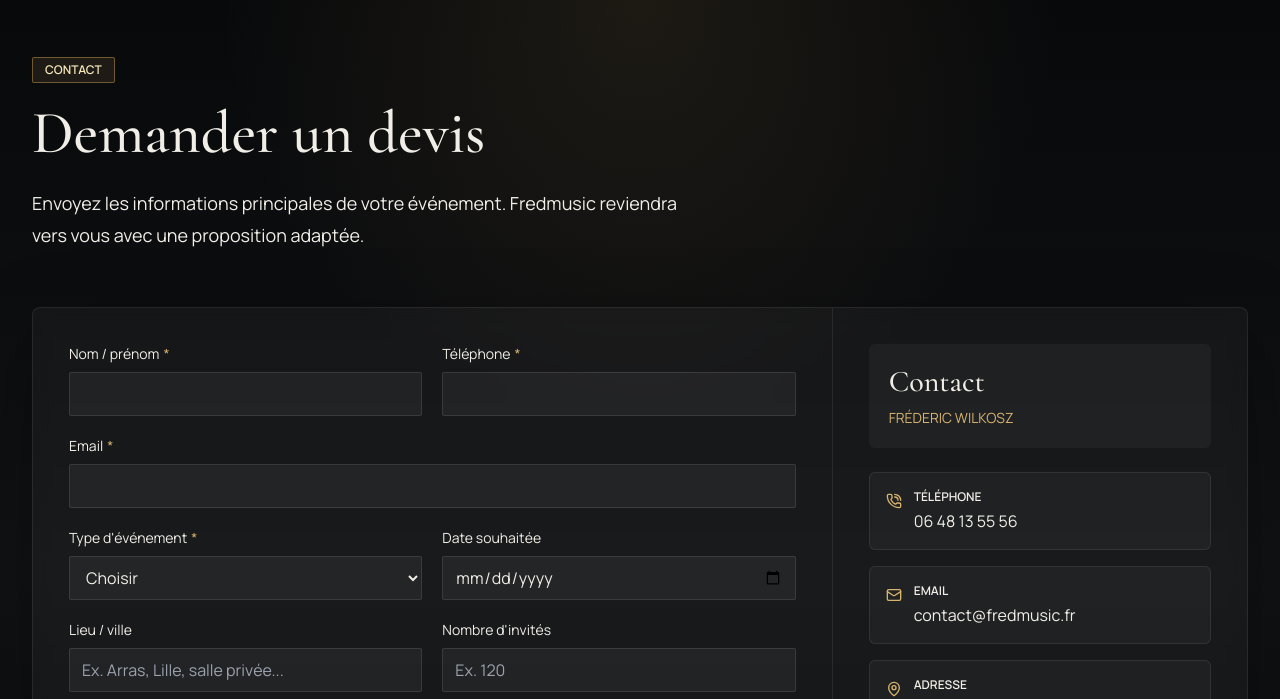
Test: ContactPage › submits a valid quote request
Type "Alice Martin" into the field labelled "Nom / prénom*" at (246, 394), box [69,372,422,416]
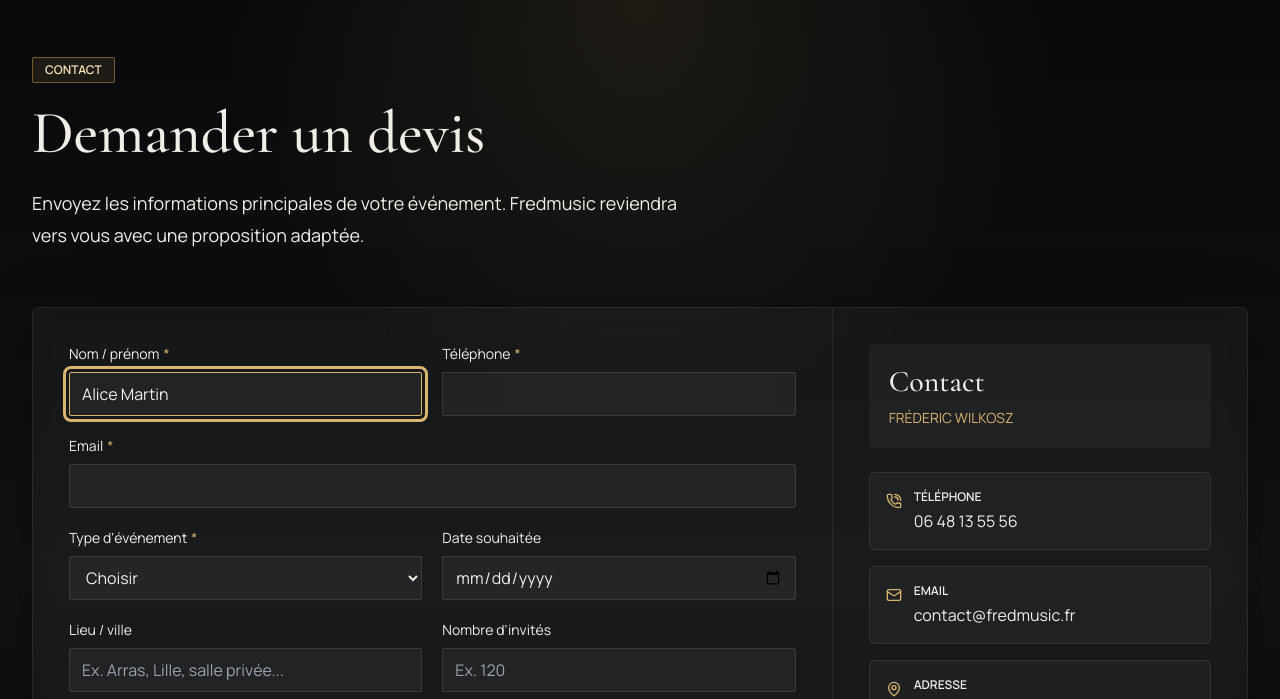
Type "0612345678" into the field labelled "Téléphone*" at (619, 394), box [442,372,796,416]
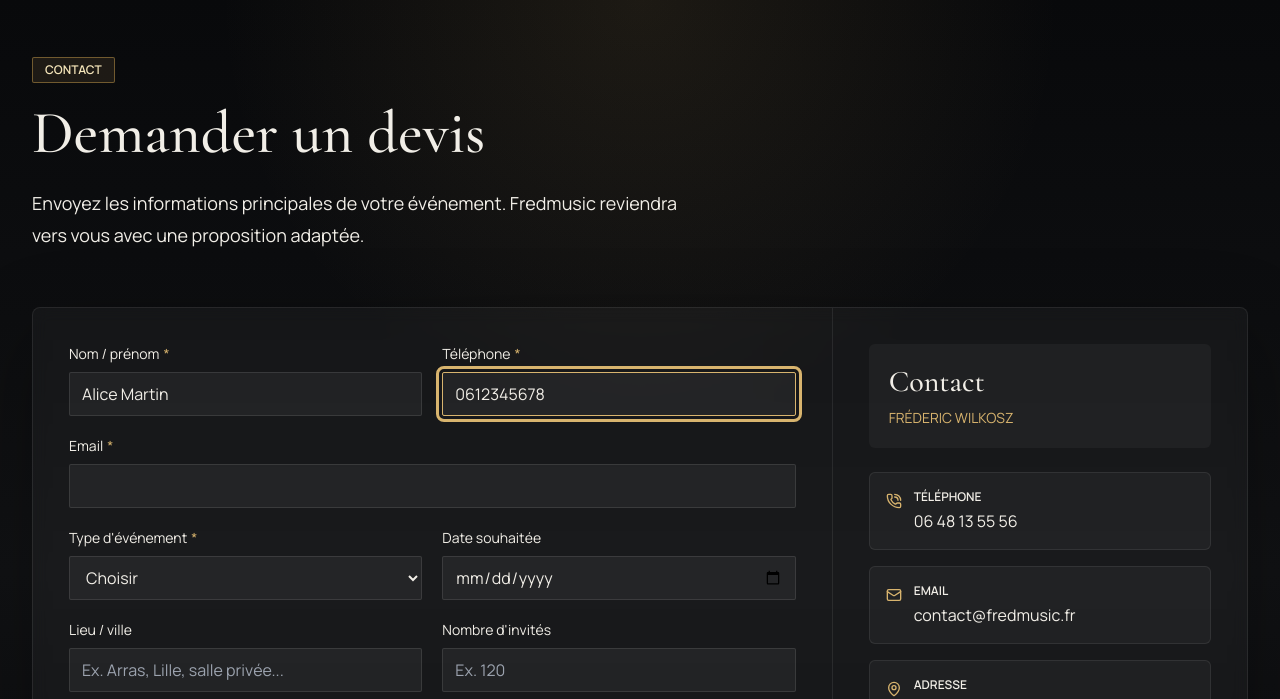
Type "alice@example.com" into the field labelled "Email*" at (432, 486), box [69,464,796,508]
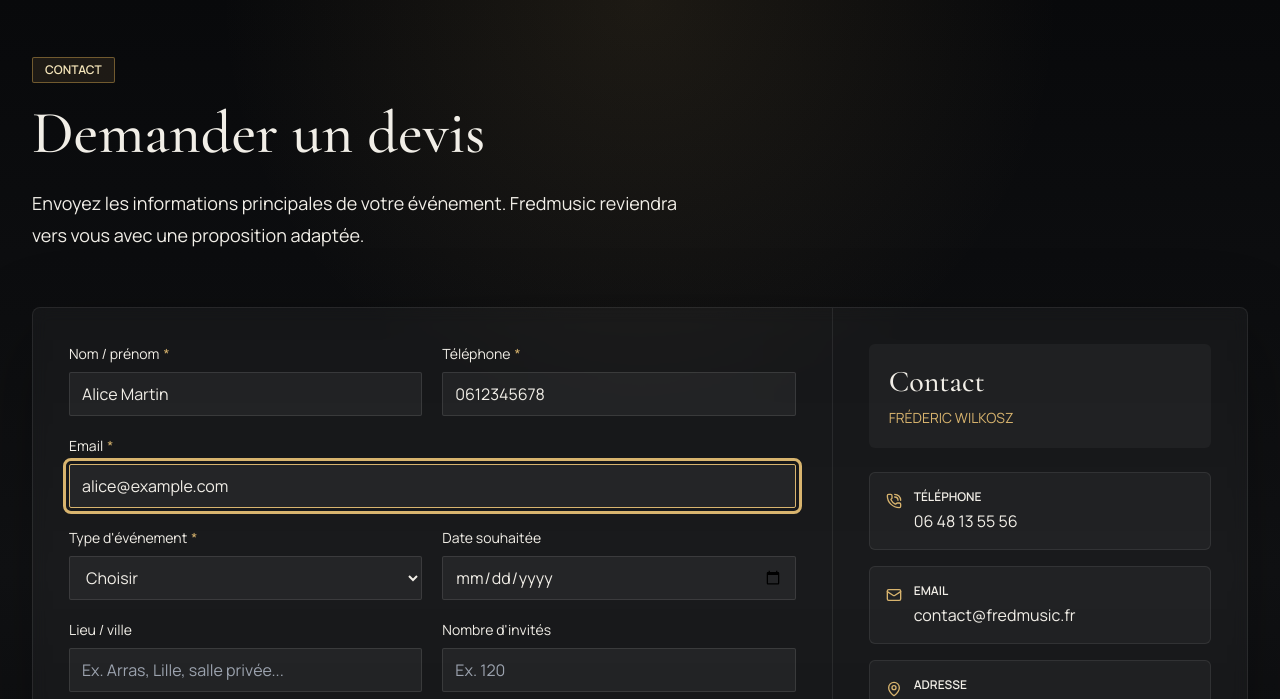
Select "Mariage" in the dropdown labelled "Type d'événement*" at (246, 578), box [69,556,422,600]
(page scrolled)
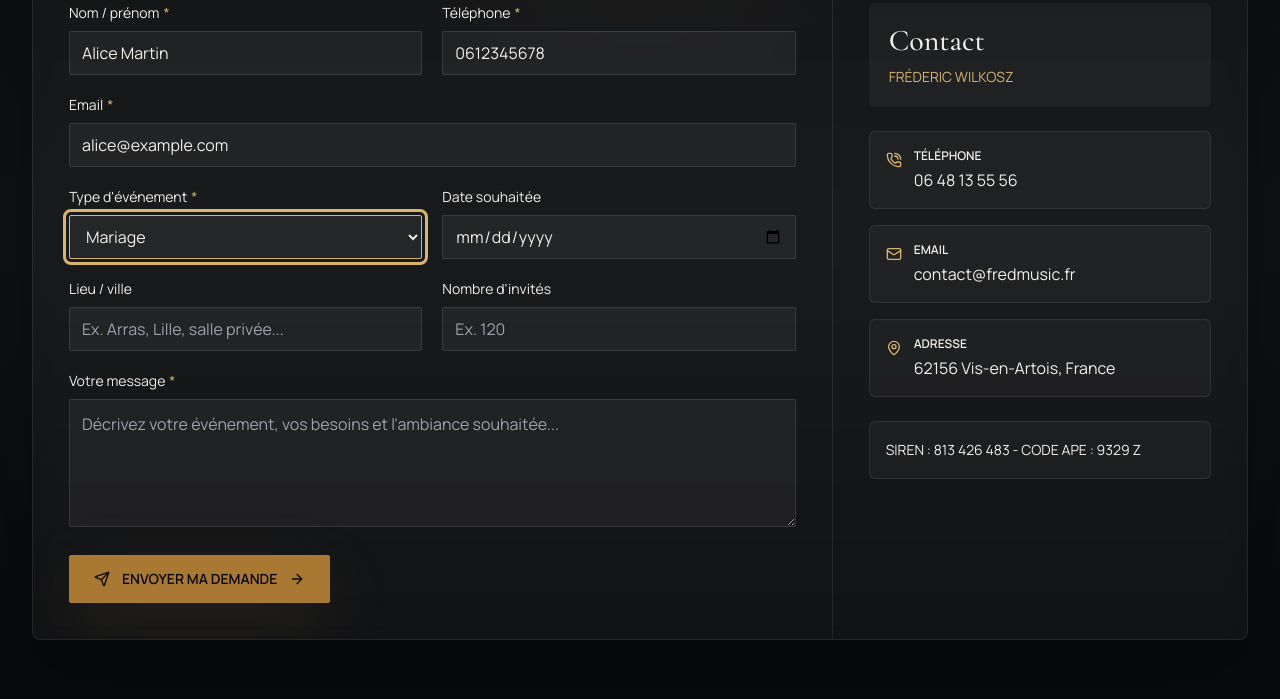
Type "Nous préparons notre mariage." into the text box labelled "Votre message*" at (432, 463), box [69,399,796,527]
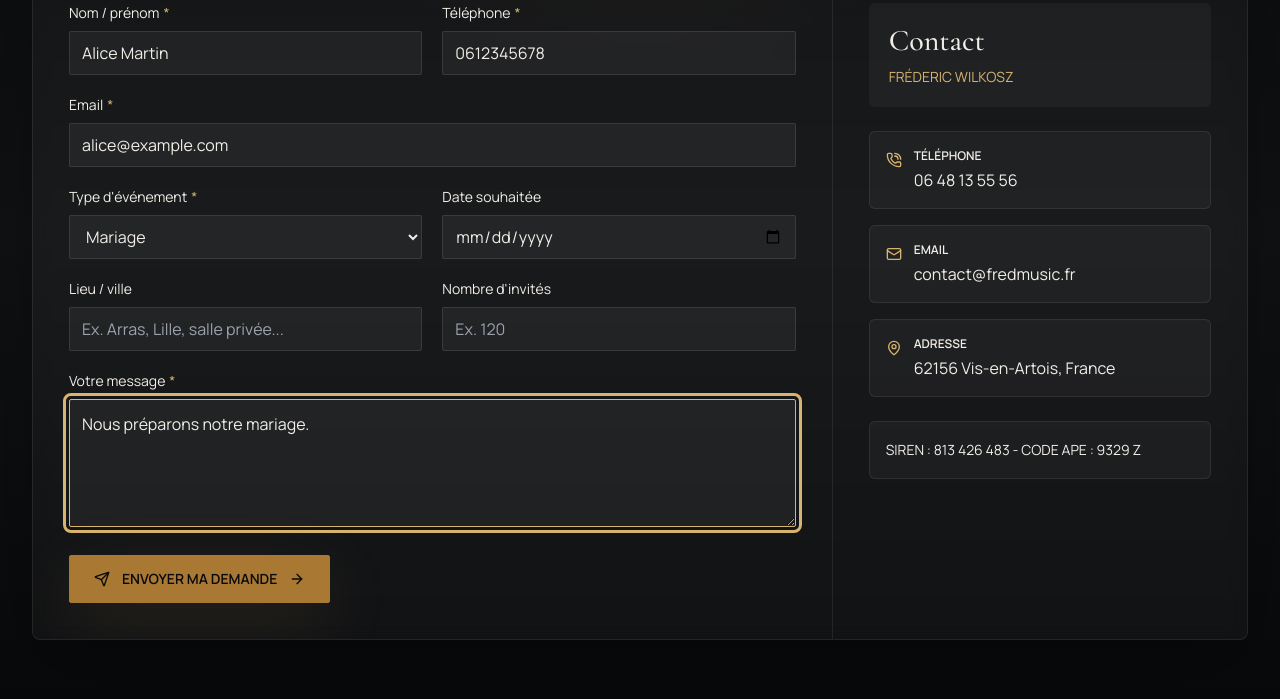
Click the button "Envoyer ma demande" at (200, 579), box [69,555,330,603]
(page scrolled)
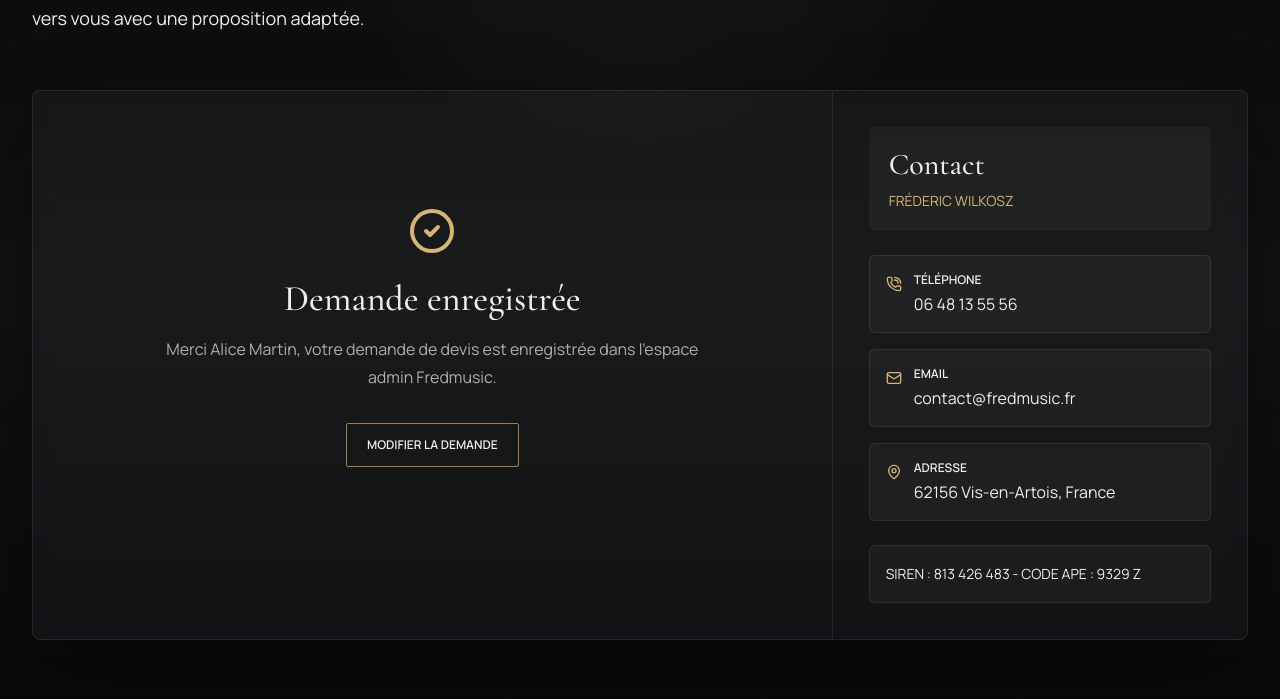
Check: the heading "Demande enregistrée" is shown, box [284,277,580,320]
